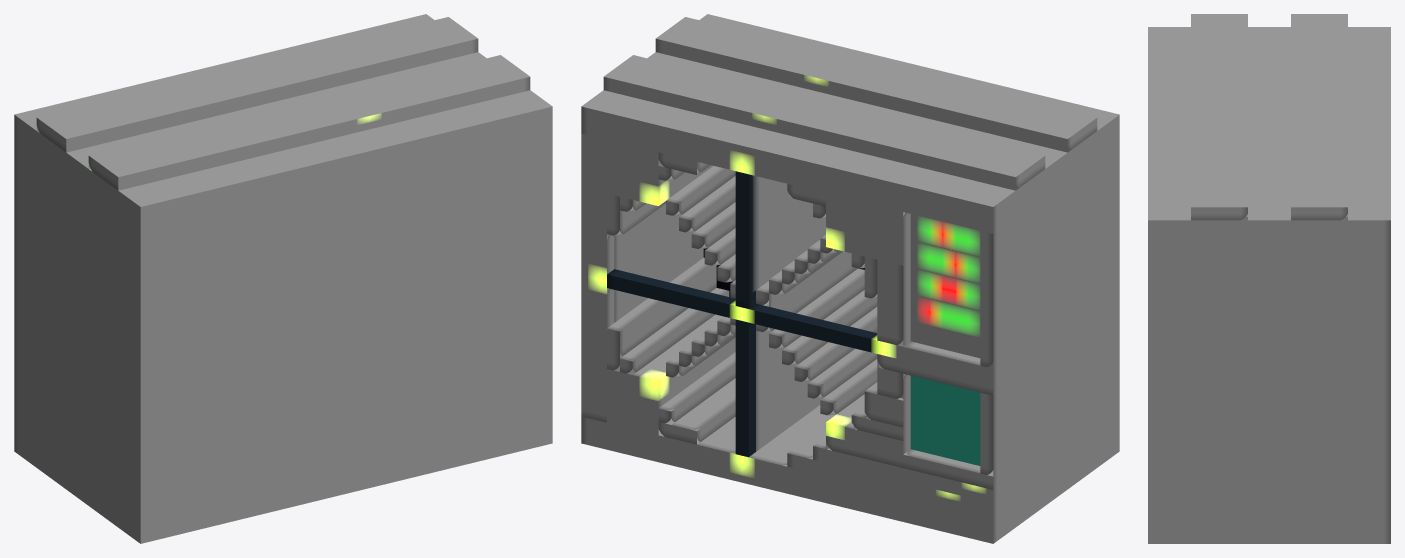
File: Skrzynka_od_klimy.dae
The picture shows the model from 3 angles, left to right: view 1: azimuth 30°, elevation 25°; view 2: azimuth 150°, elevation 25°; view 3: azimuth 270°, elevation 25°; orthographic projection. The views are drawn at different scales.
Visible parts, largest first — view 1: Content; view 2: Content; view 3: Content.
Part boxes in pixels (<box>): Content: <box>14,14,552,543</box>; Content: <box>581,14,1119,543</box>; Content: <box>1148,14,1390,543</box>.
Size of the model in its own units: 32 by 26 by 17.
Materials: 1 (1 with a texture image).
